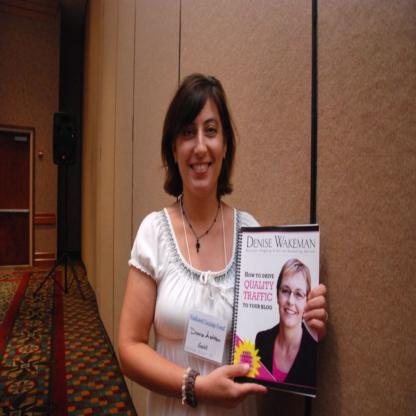book: (227, 225, 323, 400)
